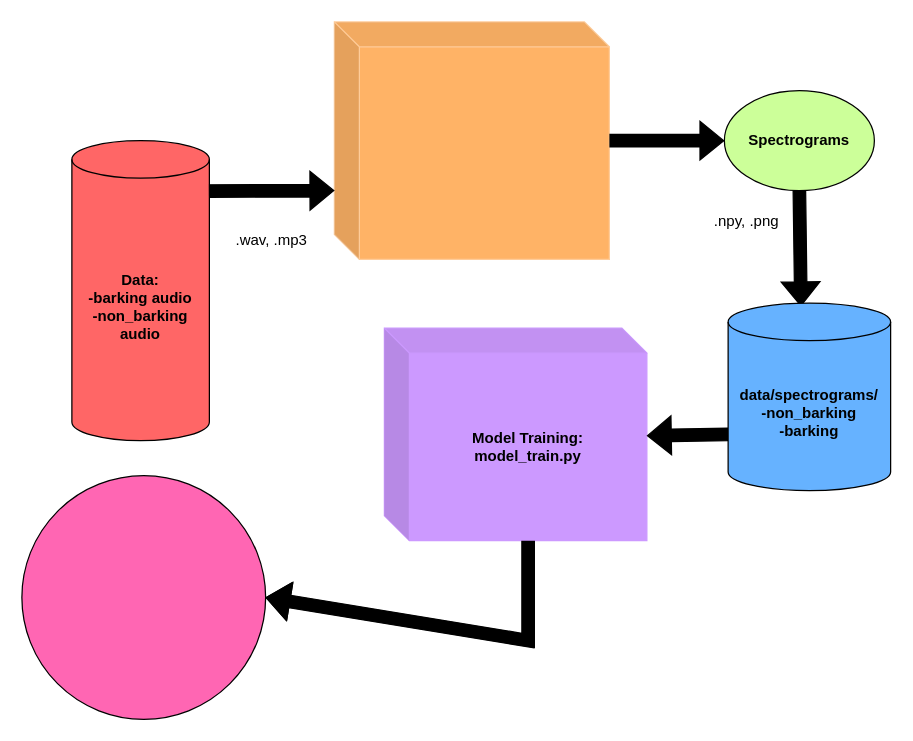
Some shapes in this 913 by 741 pixel diagram are drawn without their labels. Each missing label, with the box of its shape:
Audio Preprocessing: dogbark.py: (333, 21, 609, 259)
Output Model: barking_detection_model.keras: (21, 474, 266, 719)
